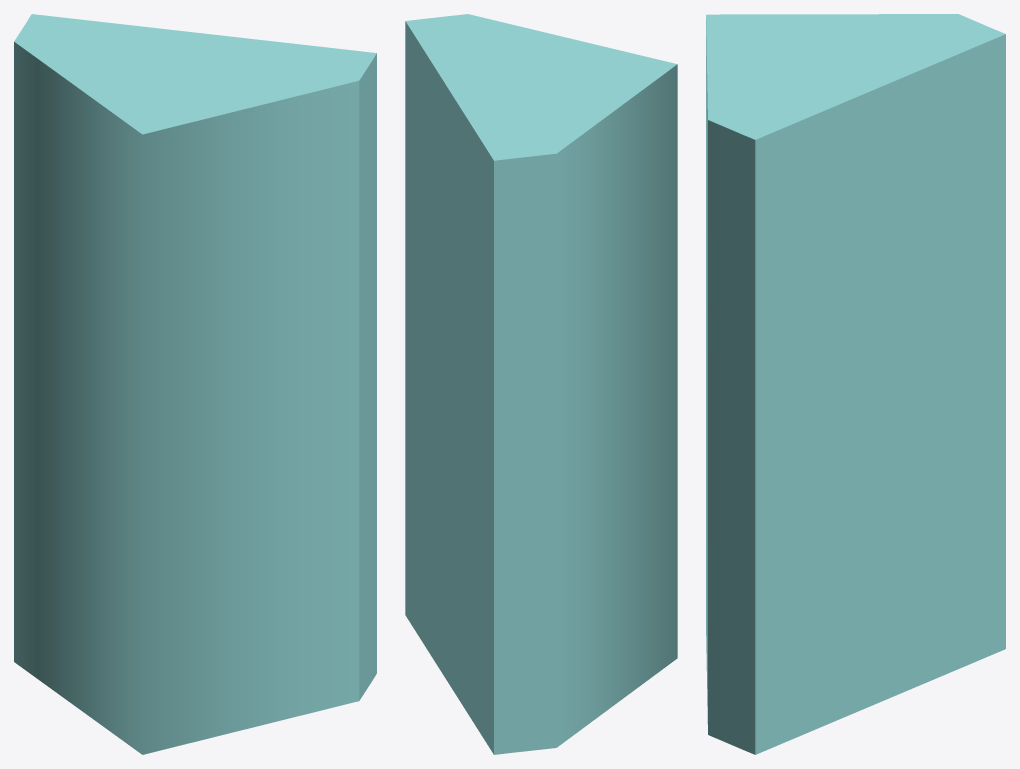
File: FYP_asset_diningRoom_cornerCabinet.fbx
3 views of the same model, side by side, from view 1: azimuth 30°, elevation 25°; view 2: azimuth 150°, elevation 25°; view 3: azimuth 270°, elevation 25° (orthographic). The views are drawn at different scales.
Parts seen in each view (by area): view 1: china_cabinet; view 2: china_cabinet; view 3: china_cabinet.
Part boxes in pixels (x1,y1,x2,y2): china_cabinet: [14, 14, 376, 754]; china_cabinet: [405, 14, 677, 754]; china_cabinet: [706, 14, 1005, 754].
Bounding box in the file's own units: 32.03 × 72.92 × 32.23.
